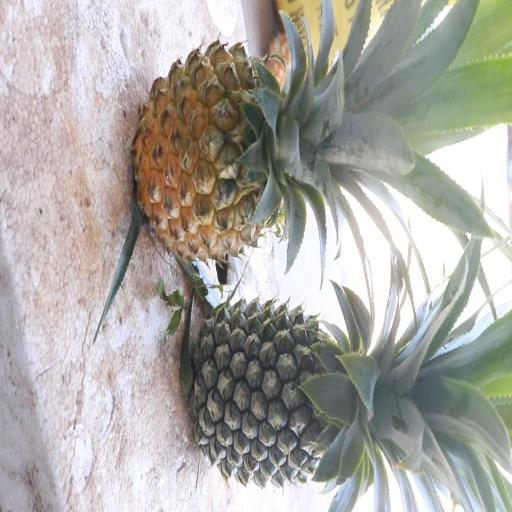Pineapple - v8 v1: (130, 11, 424, 274)
